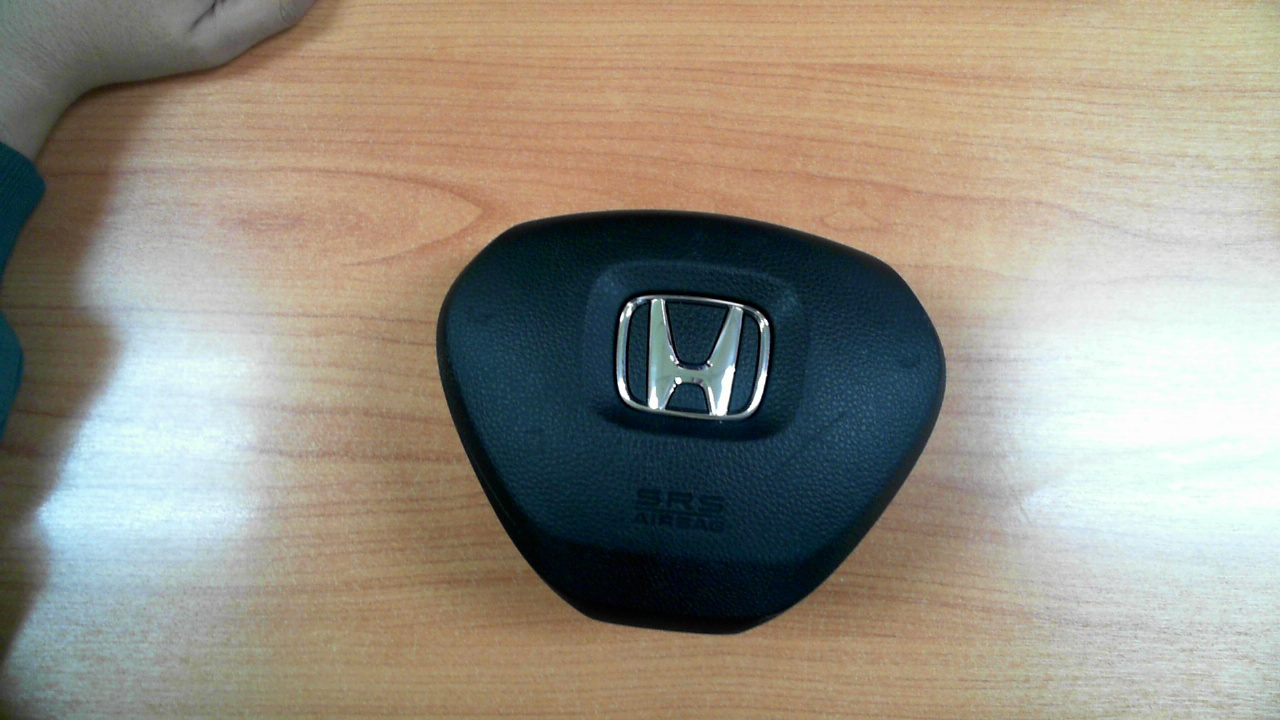Airbag: (434, 208, 947, 636)
Honda: (615, 294, 771, 421)
